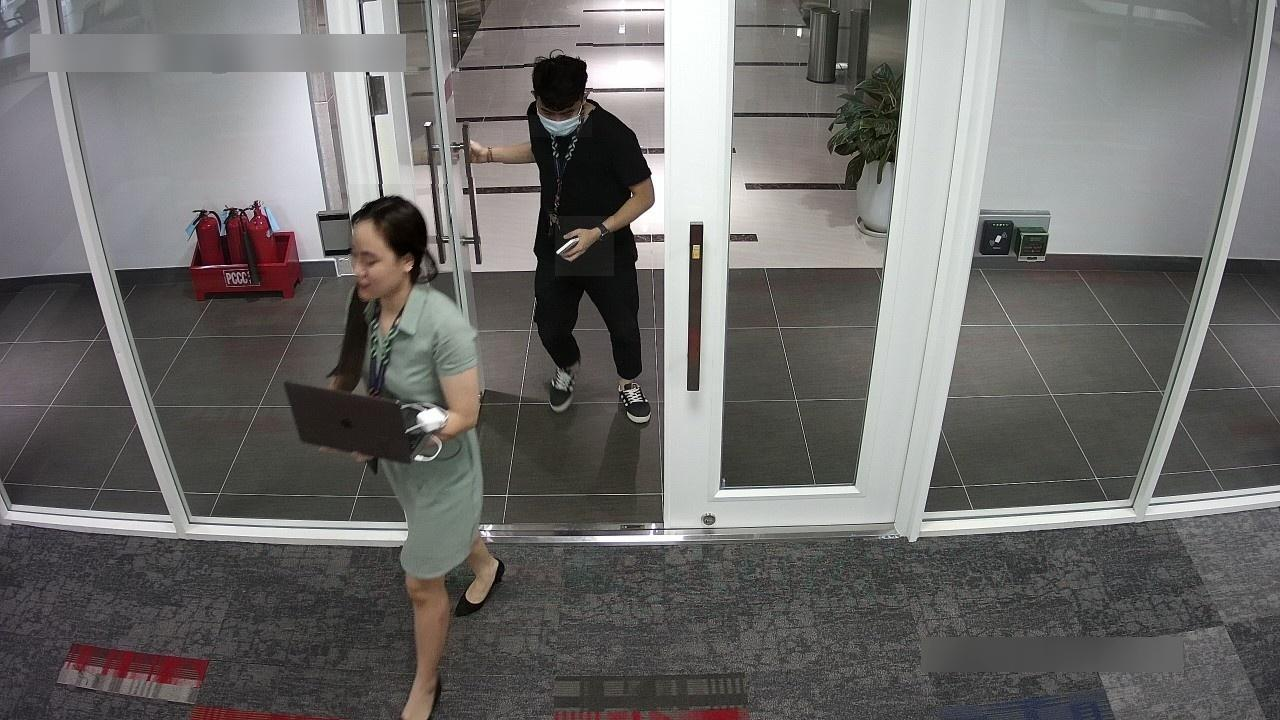mask: (530, 86, 592, 137)
no_apron: (555, 217, 614, 277), (461, 129, 504, 178)
no_gloves: (348, 184, 452, 268), (525, 36, 594, 115)
no_hairnet: (341, 262, 406, 301)
